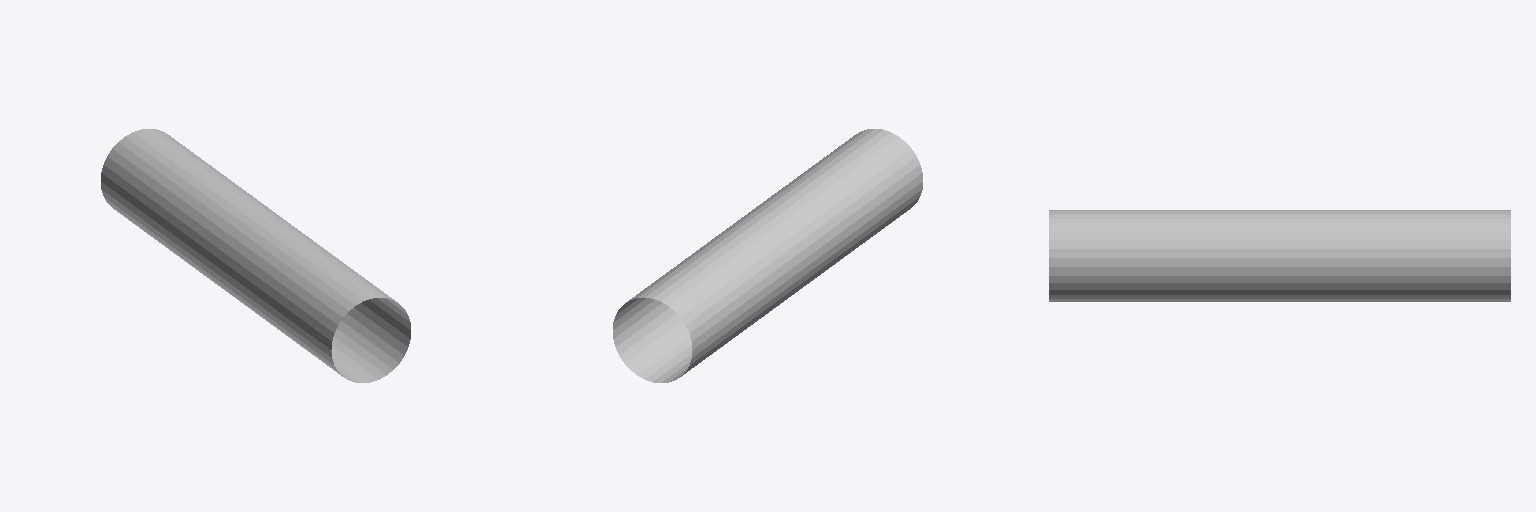
File: HorizontalPipeSection_Aligned.obj
3 renders of one model, left to right at view 1: azimuth 30°, elevation 25°; view 2: azimuth 150°, elevation 25°; view 3: azimuth 270°, elevation 25°, orthographic.
Parts seen in each view (by area): view 1: Cylinder; view 2: Cylinder; view 3: Cylinder.
Boxes of the visible parts, x1=… form: Cylinder: x1=101, y1=129, x2=410, y2=382; Cylinder: x1=613, y1=129, x2=922, y2=382; Cylinder: x1=1049, y1=210, x2=1510, y2=301.
Bounding box in the file's own units: 0.4 × 0.4 × 2.